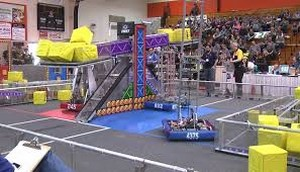cube: (248, 145, 284, 172), (258, 127, 289, 152), (50, 43, 73, 65), (72, 47, 99, 65), (71, 27, 94, 44), (259, 113, 277, 129), (38, 40, 52, 59), (173, 28, 191, 42), (6, 72, 24, 83), (33, 93, 46, 105), (57, 90, 71, 101)
